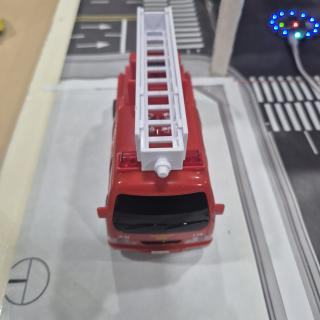Fire_truck: (97, 7, 224, 253)
